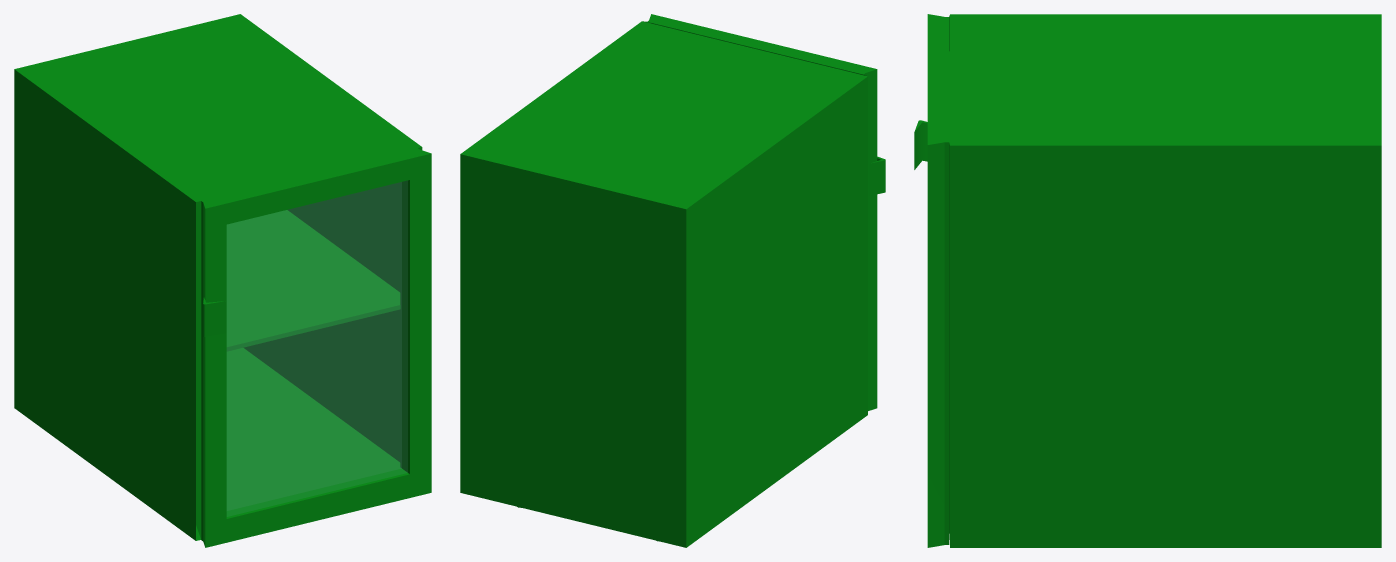
File: minibar 1.FBX
The picture shows the model from 3 angles, left to right: view 1: azimuth 30°, elevation 25°; view 2: azimuth 150°, elevation 25°; view 3: azimuth 270°, elevation 25°; orthographic projection. The views are drawn at different scales.
Parts seen in each view (by area): view 1: minbar, Box001; view 2: minbar; view 3: minbar.
Part boxes in pixels (box(x1,y1,x2,y2)): minbar: box(14, 14, 431, 547); Box001: box(227, 182, 401, 510); minbar: box(460, 14, 885, 547); minbar: box(914, 14, 1381, 547).
Size of the model in its own units: 20.23 by 29.24 by 29.81.
